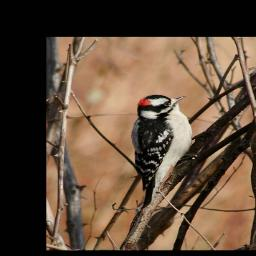Woodpecker: (131, 94, 197, 210)
